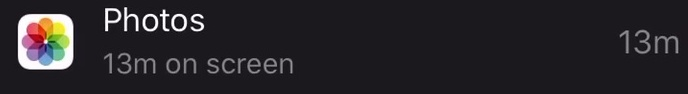name: (97, 2, 218, 40)
time: (102, 49, 164, 84)
